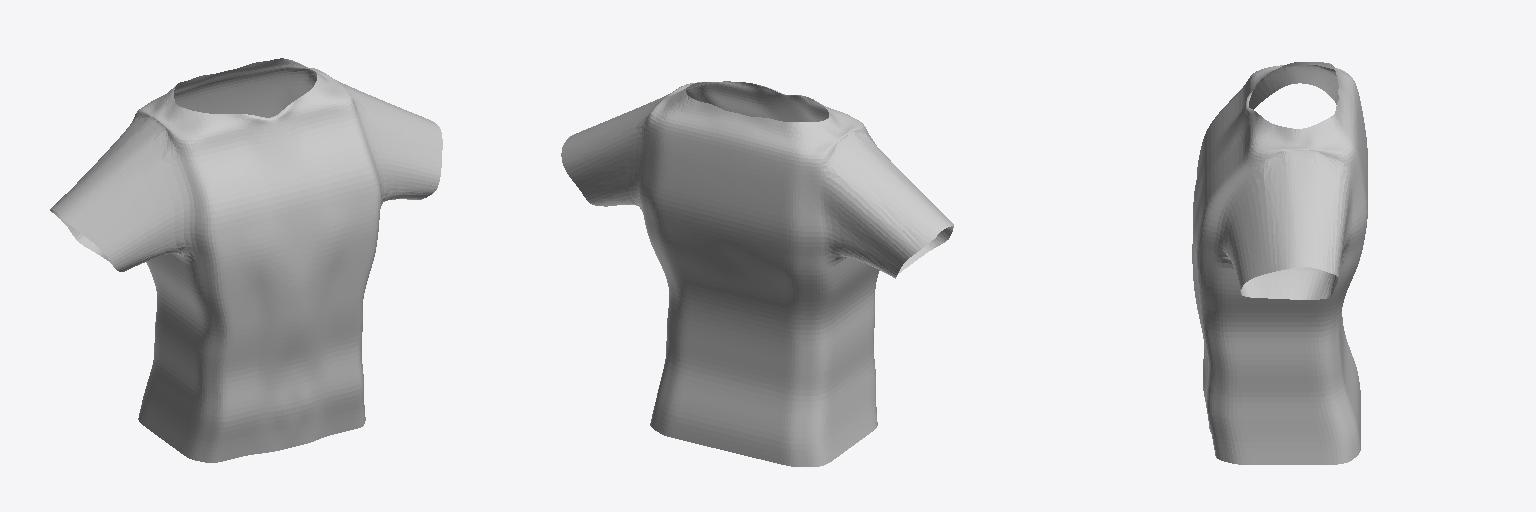
File: shirtt.obj
3 views of the same model, side by side, from view 1: azimuth 30°, elevation 25°; view 2: azimuth 150°, elevation 25°; view 3: azimuth 270°, elevation 25° (orthographic).
Parts seen in each view (by area): view 1: Cube_Cube.001; view 2: Cube_Cube.001; view 3: Cube_Cube.001.
Part boxes in pixels (x1,y1,x2,y2): Cube_Cube.001: (50,58,442,462); Cube_Cube.001: (561,81,953,466); Cube_Cube.001: (1192,62,1367,464).
Bounding box in the file's own units: 1.63 × 1.37 × 0.6562.